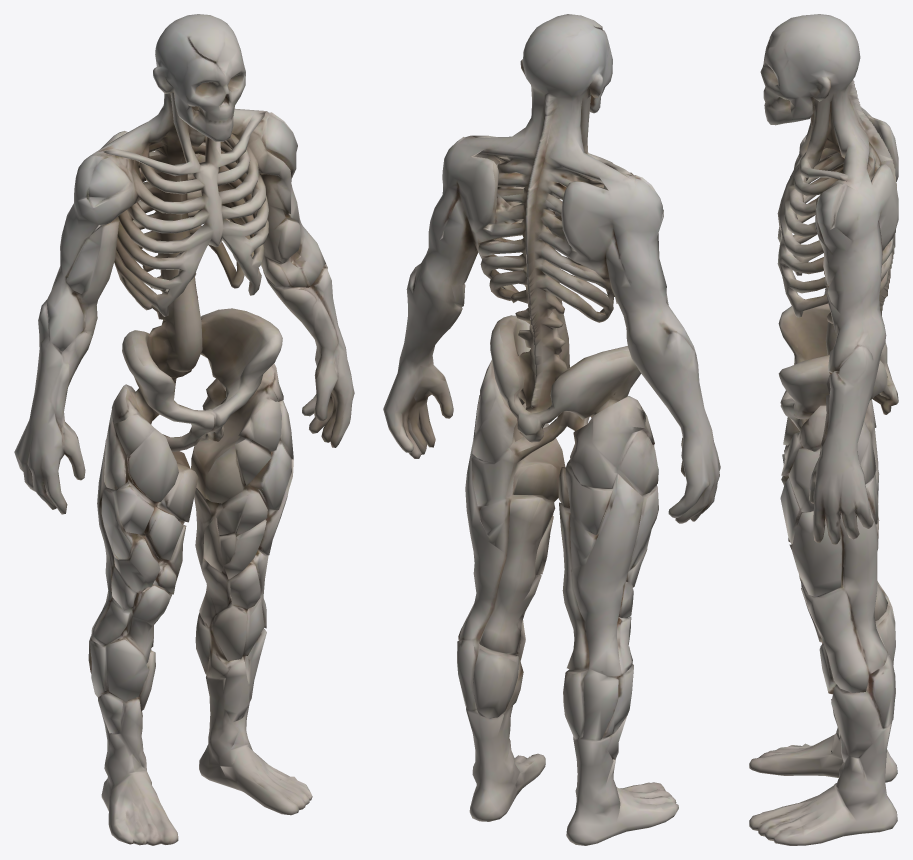
Rendered from Ruins__crumbling_6114e60b_v4.cluster.glb.
3 views of the same model, side by side, from view 1: azimuth 30°, elevation 25°; view 2: azimuth 150°, elevation 25°; view 3: azimuth 270°, elevation 25° (orthographic).
Visible parts, largest first — view 1: material; view 2: material; view 3: material.
Part boxes in pixels (x1,y1,x2,y2): material: [14, 14, 354, 845]; material: [383, 14, 720, 845]; material: [749, 14, 898, 845].
Size of the model in its own units: 0.8182 by 1.9 by 0.3281.
Materials: 1 (1 with a texture image).
